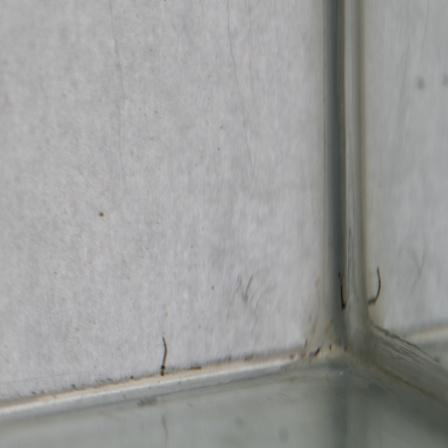Jentik-Nyamuk: (159, 332, 170, 376)
